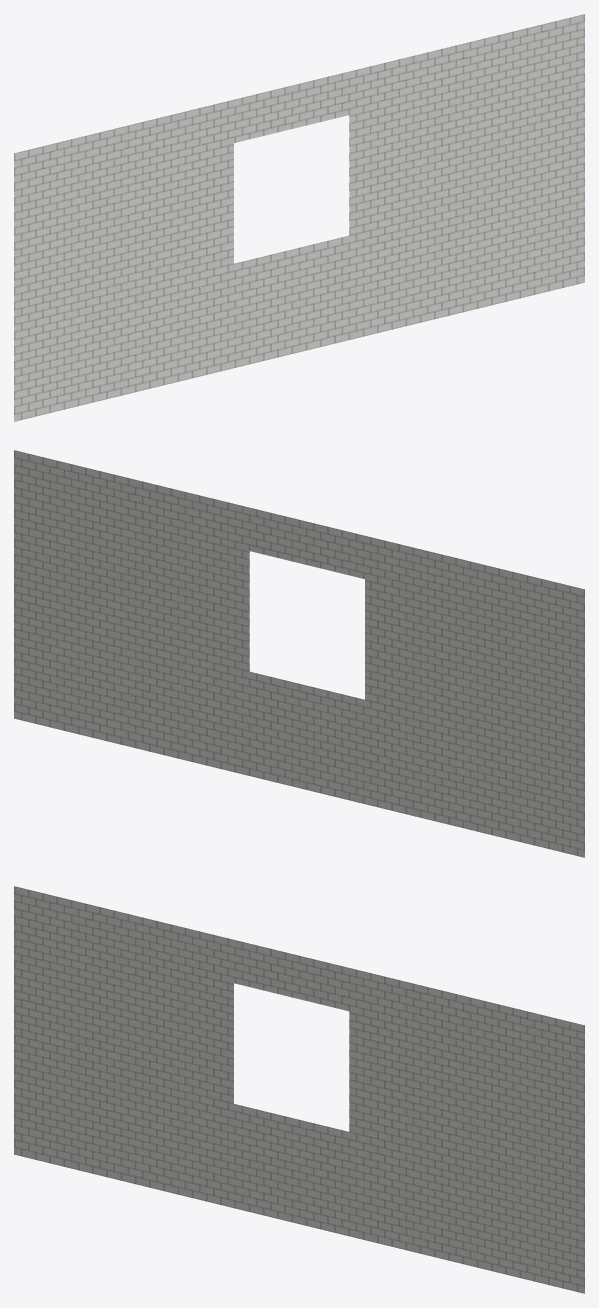
The model's file is Backsplash.fbx.
The picture shows the model from 3 angles, top to bottom: view 1: azimuth 30°, elevation 25°; view 2: azimuth 150°, elevation 25°; view 3: azimuth 330°, elevation 25°; orthographic projection.
Visible parts, largest first — view 1: Backsplash; view 2: Backsplash; view 3: Backsplash.
Part boxes in pixels (x1,y1,x2,y2): Backsplash: (14, 14, 584, 421); Backsplash: (14, 450, 584, 857); Backsplash: (14, 886, 584, 1293).
Bounding box in the file's own units: 1551 × 697 × 0.
